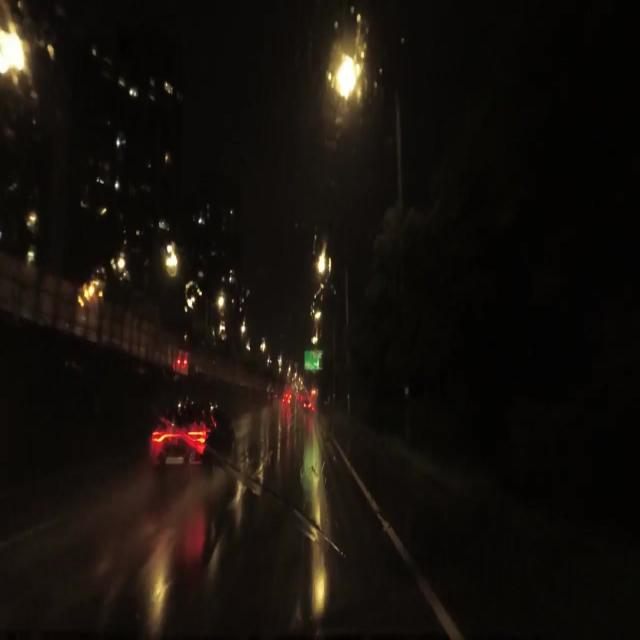Car: (145, 404, 236, 479)
